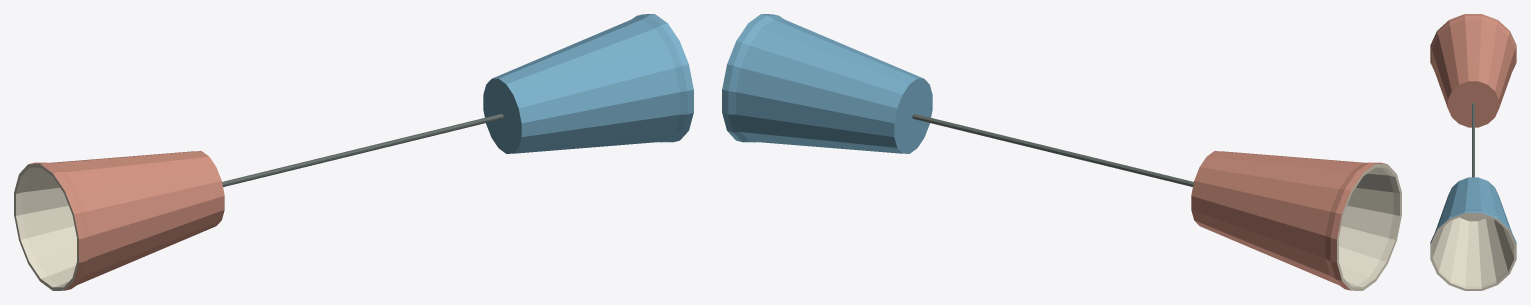
3 views of the same model, side by side, from view 1: azimuth 30°, elevation 25°; view 2: azimuth 150°, elevation 25°; view 3: azimuth 270°, elevation 25° (orthographic). The views are drawn at different scales.
Parts seen in each view (by area): view 1: WholeLeftOpenPaperCup, WholeRightOpenPaperCup, WholeContinuousConnectingCord; view 2: WholeLeftOpenPaperCup, WholeRightOpenPaperCup, WholeContinuousConnectingCord; view 3: WholeRightOpenPaperCup, WholeLeftOpenPaperCup, WholeContinuousConnectingCord.
Part boxes in pixels (left/top/right/bottom): WholeLeftOpenPaperCup: left=14, top=151, right=224, bottom=290; WholeRightOpenPaperCup: left=483, top=14, right=693, bottom=153; WholeContinuousConnectingCord: left=222, top=113, right=503, bottom=186; WholeLeftOpenPaperCup: left=1191, top=151, right=1401, bottom=290; WholeRightOpenPaperCup: left=722, top=14, right=932, bottom=153; WholeContinuousConnectingCord: left=912, top=113, right=1193, bottom=186; WholeRightOpenPaperCup: left=1430, top=177, right=1516, bottom=290; WholeLeftOpenPaperCup: left=1430, top=14, right=1516, bottom=127; WholeContinuousConnectingCord: left=1472, top=103, right=1474, bottom=177.
Bounding box in the file's own units: 0.29 × 0.053 × 0.053.
